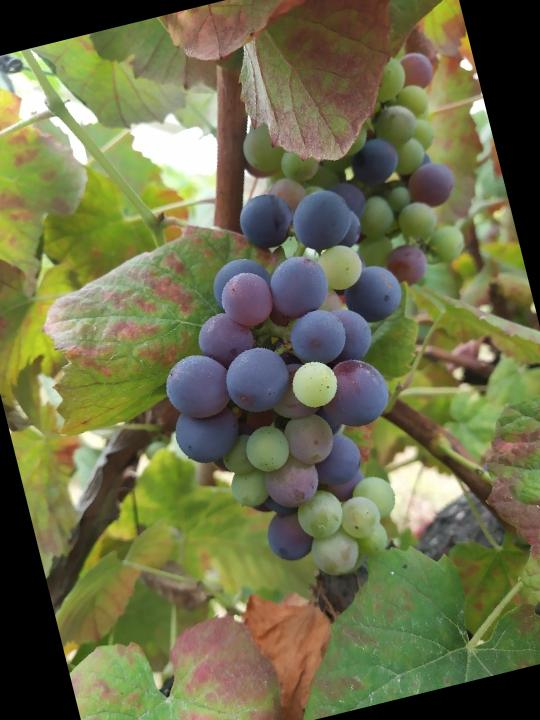grape: (120, 164, 470, 610)
